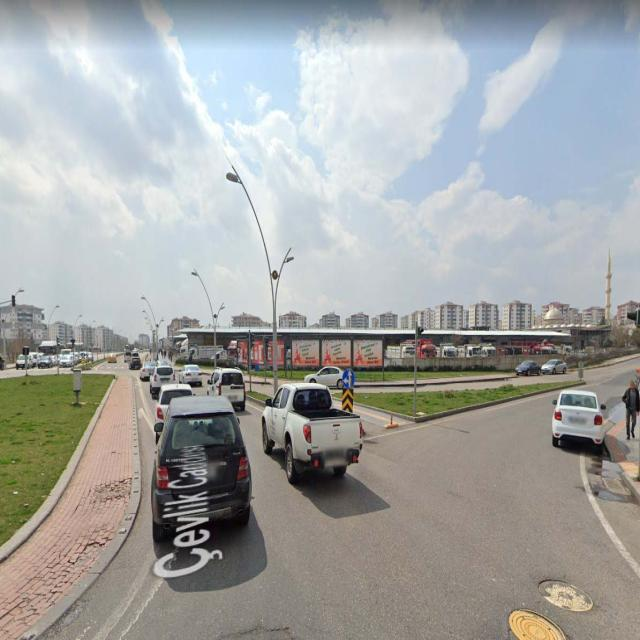ilerisol: (343, 371, 355, 386)
